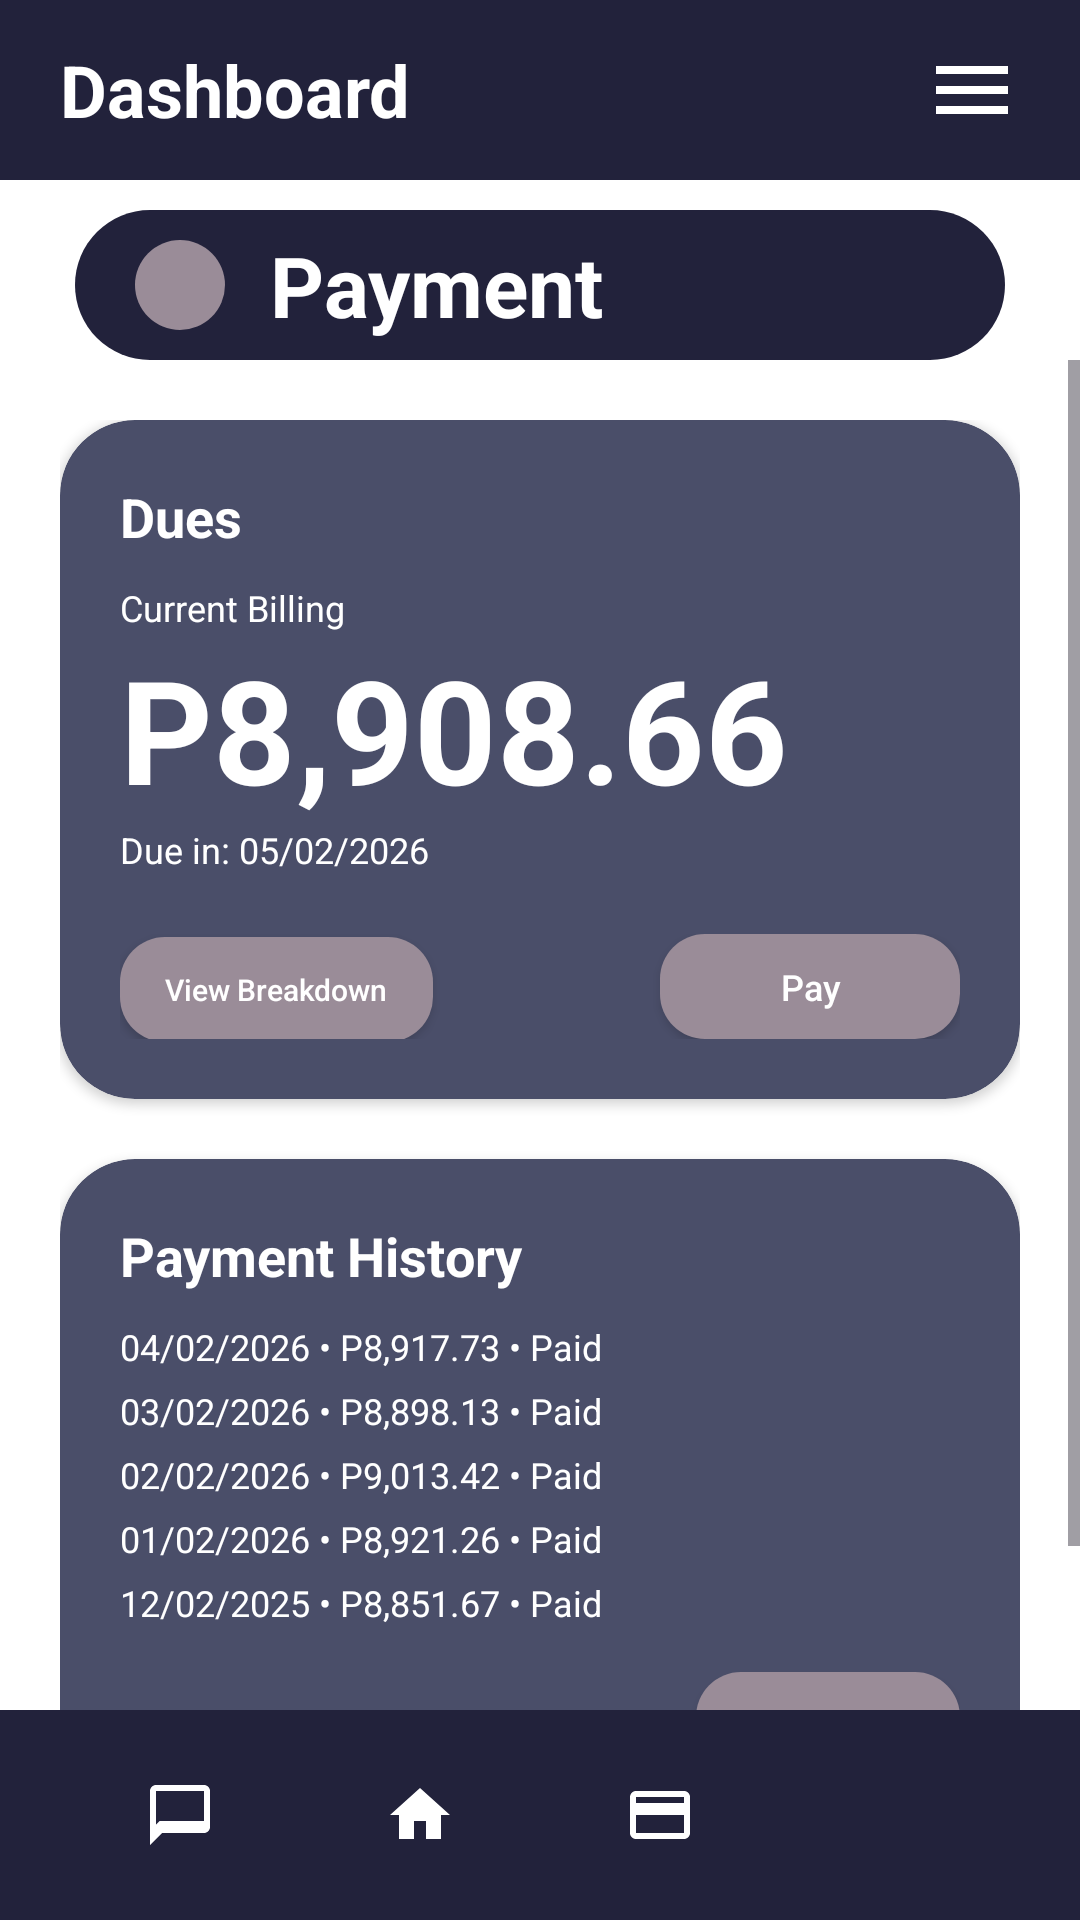

Where icons sit on this 1080×1920 app screen, as (x1, y1, x2, y2):
Home: (390, 1788, 450, 1839)
Menu: (936, 66, 1008, 114)
Messages: (150, 1785, 210, 1845)
Payments: (630, 1791, 690, 1839)
